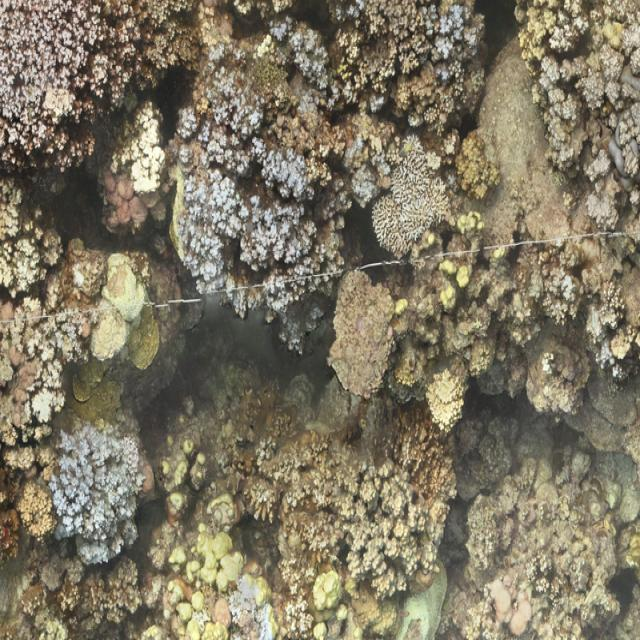Bleached Coral: (179, 96, 292, 319), (49, 425, 153, 578), (231, 575, 275, 640)
